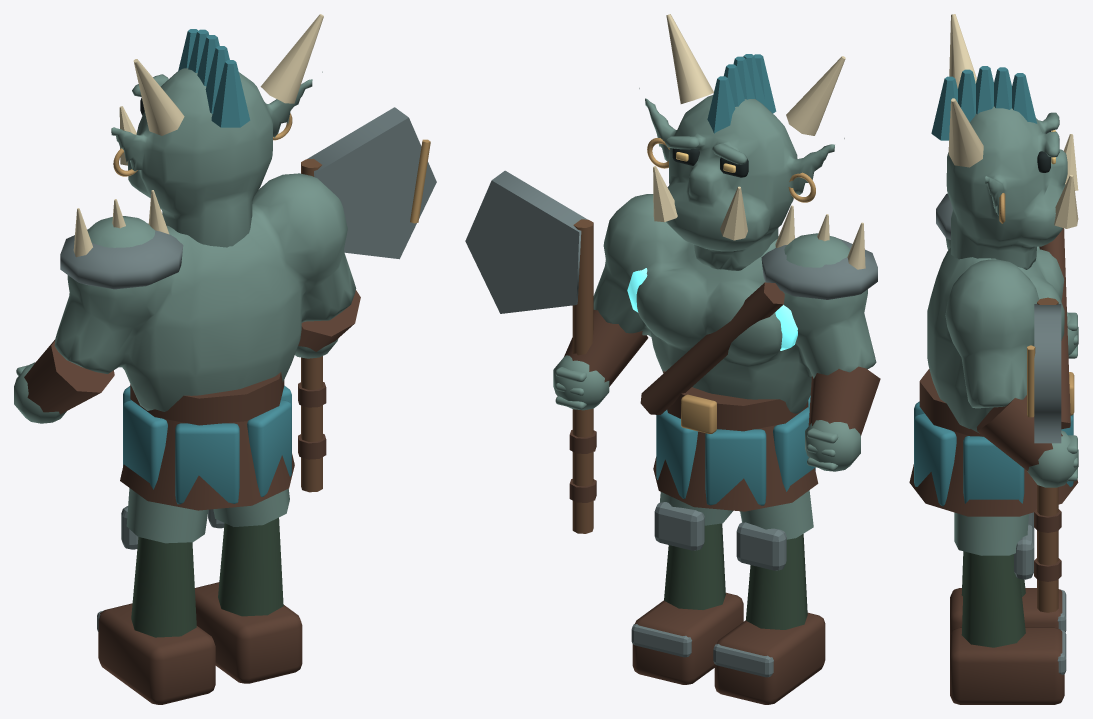
The model's file is host_26.glb.
The picture shows the model from 3 angles, left to right: view 1: azimuth 30°, elevation 25°; view 2: azimuth 150°, elevation 25°; view 3: azimuth 270°, elevation 25°; orthographic projection. The views are drawn at different scales.
Parts seen in each view (by area): view 1: mesh_Skin.002, mesh_Iron.002, mesh_Leather.002, mesh_Cloth.025, mesh_Leather.025, mesh_Leather.001, mesh_Shadow.025, mesh_Bone.025, mesh_Shadow.001, mesh_Skin.025, mesh_Wood.025, mesh_Skin.001 (+1 smaller); view 2: mesh_Skin.002, mesh_Leather.002, mesh_Iron.002, mesh_Cloth.025, mesh_Bone.025, mesh_Leather.025, mesh_Leather.001, mesh_Wood.025, mesh_Shadow.025, mesh_Shadow.001, mesh_Iron.025, mesh_Iron.001 (+5 smaller); view 3: mesh_Skin.002, mesh_Cloth.025, mesh_Leather.002, mesh_Leather.001, mesh_Shadow.001, mesh_Iron.002, mesh_Bone.025, mesh_Skin.001, mesh_Wood.025, mesh_Leather.025, mesh_Iron.001, mesh_Copper.025 (+1 smaller).
Part boxes in pixels (bbox=[...]): mesh_Skin.002: bbox=[14, 68, 356, 423]; mesh_Iron.002: bbox=[60, 107, 436, 289]; mesh_Leather.002: bbox=[24, 290, 360, 510]; mesh_Cloth.025: bbox=[123, 29, 291, 504]; mesh_Leather.025: bbox=[98, 603, 215, 704]; mesh_Leather.001: bbox=[195, 582, 302, 683]; mesh_Shadow.025: bbox=[131, 537, 196, 637]; mesh_Bone.025: bbox=[73, 14, 323, 257]; mesh_Shadow.001: bbox=[218, 517, 283, 616]; mesh_Skin.025: bbox=[126, 488, 208, 543]; mesh_Wood.025: bbox=[301, 158, 322, 492]; mesh_Skin.001: bbox=[213, 489, 289, 526]; mesh_Skin.002: bbox=[553, 88, 876, 471]; mesh_Leather.002: bbox=[564, 282, 880, 511]; mesh_Iron.002: bbox=[465, 170, 877, 313]; mesh_Cloth.025: bbox=[656, 54, 815, 505]; mesh_Bone.025: bbox=[653, 14, 865, 269]; mesh_Leather.025: bbox=[714, 612, 825, 704]; mesh_Leather.001: bbox=[632, 592, 743, 684]; mesh_Wood.025: bbox=[572, 219, 593, 533]; mesh_Shadow.025: bbox=[746, 534, 807, 629]; mesh_Shadow.001: bbox=[664, 523, 725, 609]; mesh_Iron.025: bbox=[713, 522, 786, 677]; mesh_Iron.001: bbox=[631, 502, 704, 657]; mesh_Skin.002: bbox=[927, 106, 1078, 487]; mesh_Cloth.025: bbox=[914, 66, 1073, 506]; mesh_Leather.002: bbox=[909, 228, 1078, 581]; mesh_Leather.001: bbox=[950, 627, 1064, 704]; mesh_Shadow.001: bbox=[961, 551, 1025, 647]; mesh_Iron.002: bbox=[936, 193, 1061, 443]; mesh_Bone.025: bbox=[948, 14, 1078, 228]; mesh_Skin.001: bbox=[954, 512, 1028, 555]; mesh_Wood.025: bbox=[1037, 297, 1058, 612]; mesh_Leather.025: bbox=[950, 588, 1062, 636]; mesh_Iron.001: bbox=[1014, 524, 1066, 674]; mesh_Copper.025: bbox=[999, 193, 1074, 417].
Size of the model in its own units: 1.28 by 1.96 by 0.4858.
